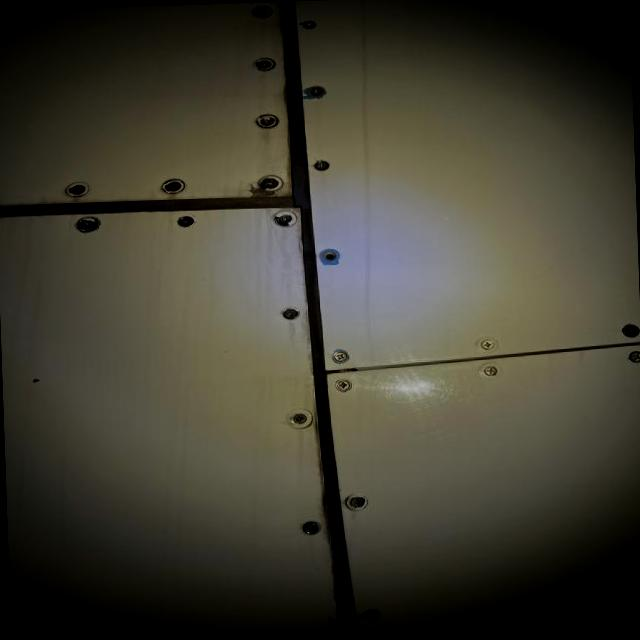Missing Fastener: (313, 244, 347, 269)
